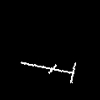double_crochet: (21, 62, 75, 82)
